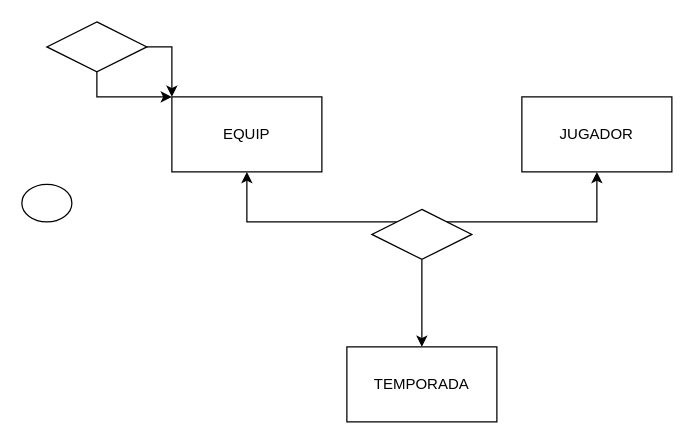
Image size: 694x444. Some labels were removed from this diagram. Here are the shapes that lost their labels. From the top down, the box of each, then its label:
(46, 21, 147, 72): JugaPartit
(371, 208, 472, 259): Juga
